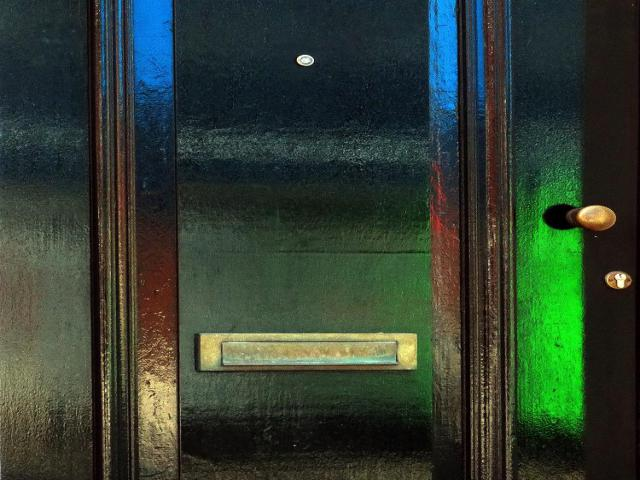Door-handle: (560, 204, 621, 234)
